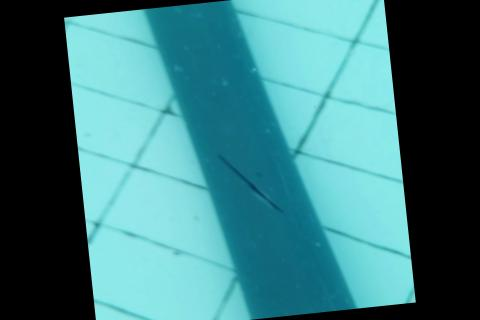keretakan: (213, 146, 286, 221)
